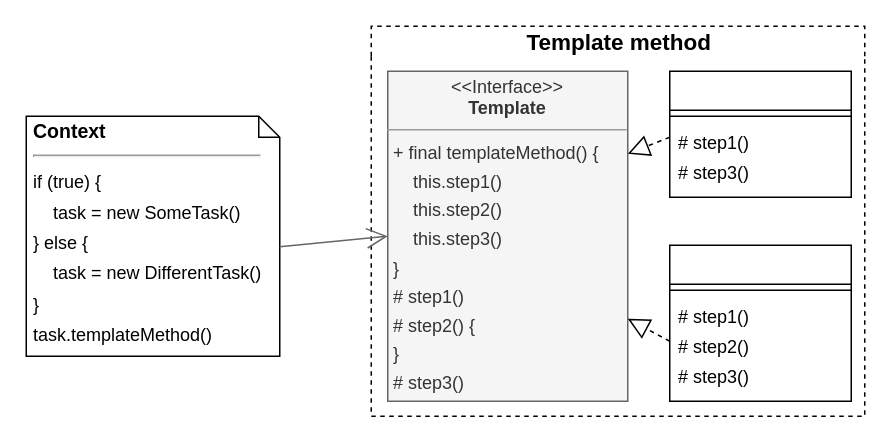
The diagram is 891 pixels wide and 443 high, and some of its shapes have lost their labels. The shapes that lost their labels are listed below. From the top down, each one's box as (x1, y1, x2, y2) in pixels, then its label:
(668, 70, 851, 197): SomeTask
(668, 244, 851, 401): DifferentTask
